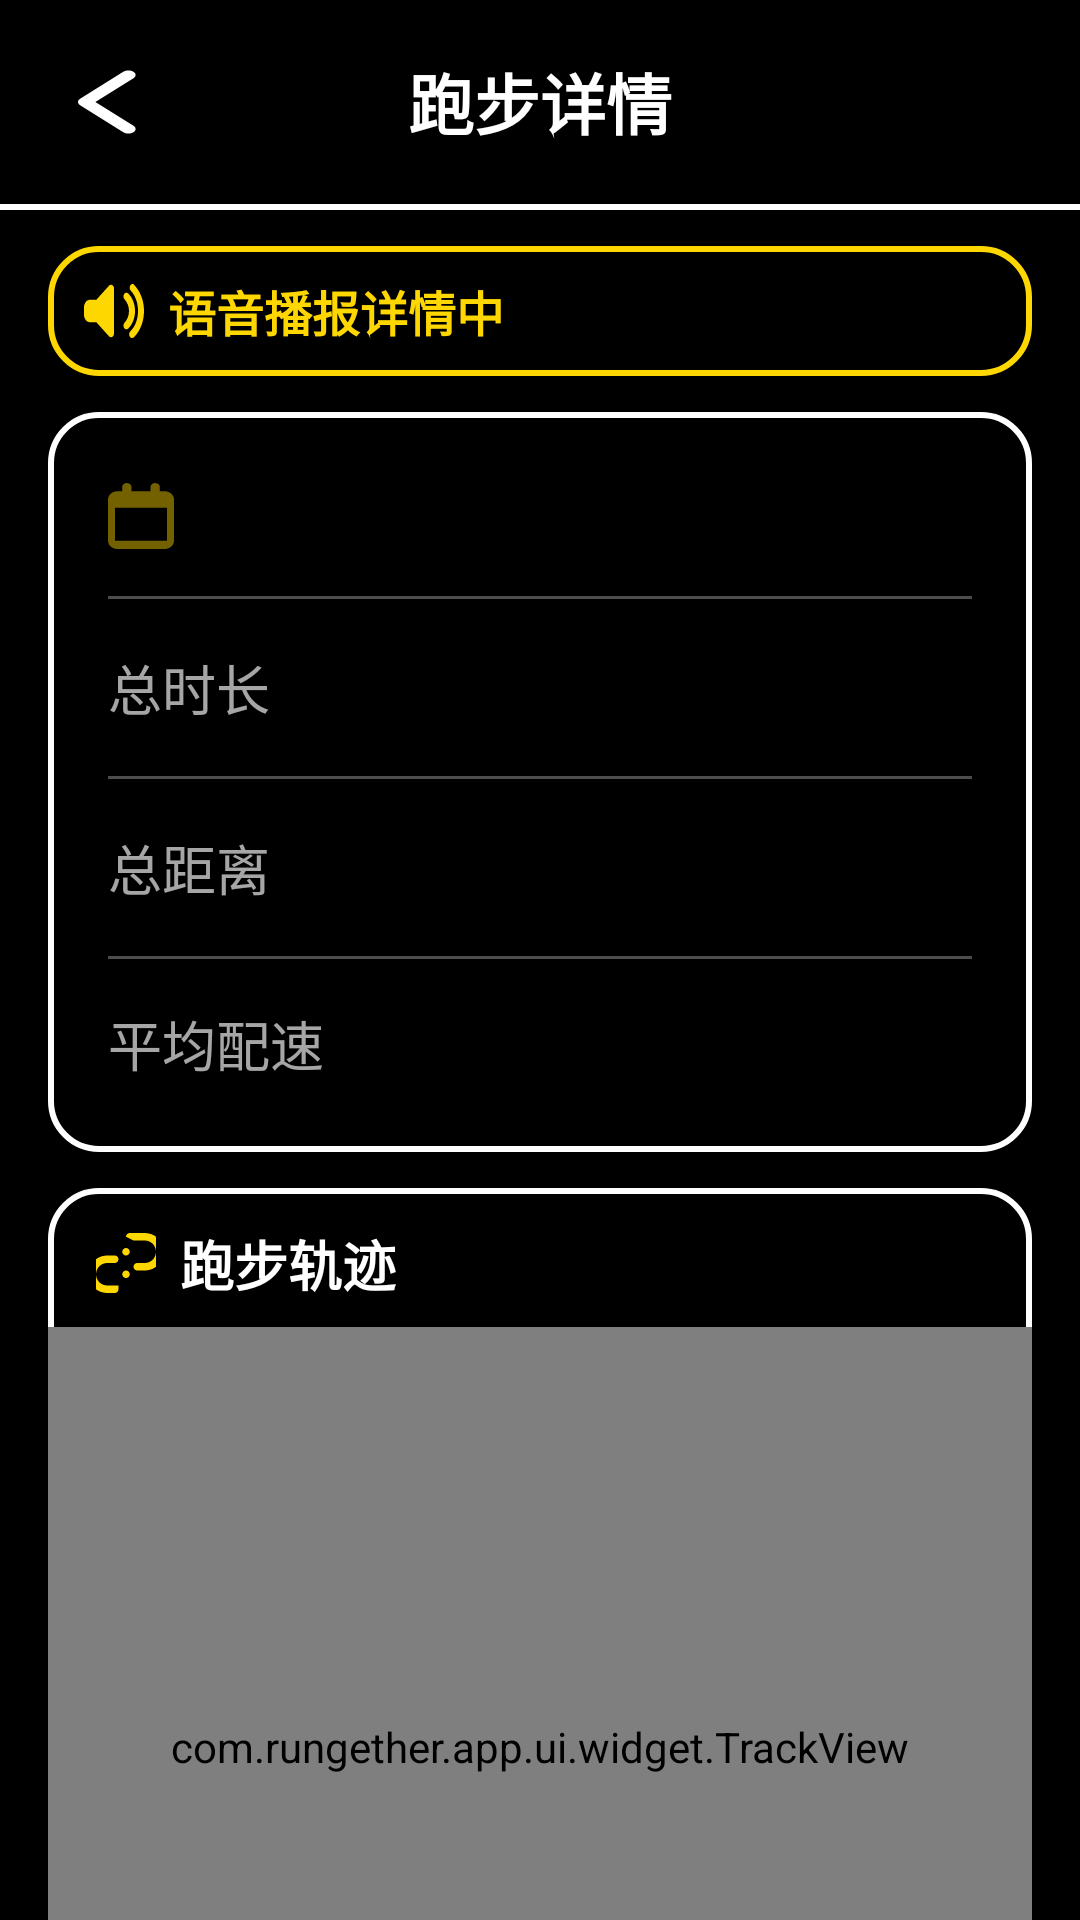

Locate icon controls on the screen. Image size 1080×1920, boxes as (x1, y1, x2, y2).
calendar: (108, 483, 174, 549)
route: (96, 1233, 156, 1293)
volume high: (84, 284, 144, 338)
返回: (78, 70, 136, 134)
